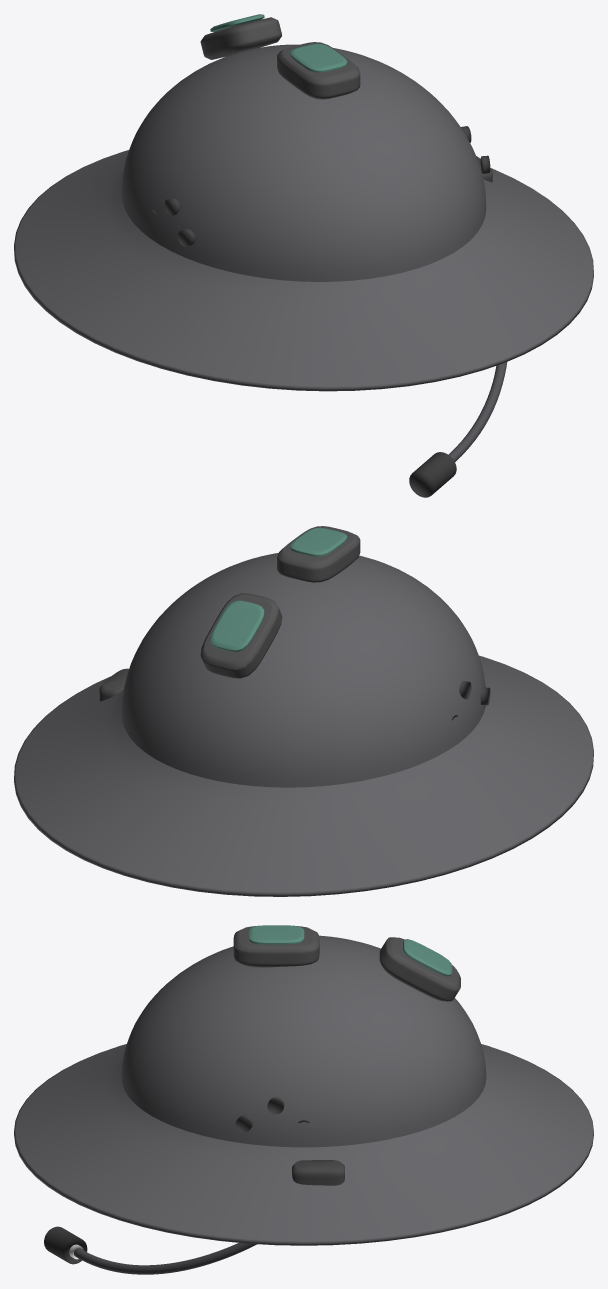
Rendered from tactical_helmet_boom_mic.glb.
3 renders of one model, top to bottom at view 1: azimuth 30°, elevation 25°; view 2: azimuth 150°, elevation 25°; view 3: azimuth 270°, elevation 25°, orthographic. The views are drawn at different scales.
Parts seen in each view (by area): view 1: Helmet_Shell, Top_Sensor_Module, Rear_Sensor_Module, Mic_Foam_Windscreen, Top_Sensor_Lens, Boom_Arm, Side_Rivets_and_Buttons; view 2: Helmet_Shell, Rear_Sensor_Module, Top_Sensor_Module, Rear_Sensor_Lens, Top_Sensor_Lens, Mic_Base_Mount; view 3: Helmet_Shell, Rear_Sensor_Module, Top_Sensor_Module, Boom_Arm, Mic_Base_Mount, Top_Sensor_Lens, Rear_Sensor_Lens, Mic_Foam_Windscreen, Side_Rivets_and_Buttons.
Part boxes in pixels (box(x1,y1,x2,y2)): Helmet_Shell: box(14, 44, 593, 391); Top_Sensor_Module: box(277, 42, 360, 99); Rear_Sensor_Module: box(200, 17, 281, 59); Mic_Foam_Windscreen: box(409, 452, 456, 497); Top_Sensor_Lens: box(290, 43, 347, 72); Boom_Arm: box(448, 362, 507, 461); Side_Rivets_and_Buttons: box(150, 126, 490, 246); Helmet_Shell: box(14, 553, 593, 896); Rear_Sensor_Module: box(200, 593, 282, 678); Top_Sensor_Module: box(277, 526, 360, 582); Rear_Sensor_Lens: box(210, 600, 264, 651); Top_Sensor_Lens: box(290, 527, 347, 556); Mic_Base_Mount: box(99, 668, 128, 701); Helmet_Shell: box(14, 935, 593, 1245); Rear_Sensor_Module: box(379, 937, 460, 1001); Top_Sensor_Module: box(233, 926, 319, 967); Boom_Arm: box(74, 1243, 256, 1274); Mic_Base_Mount: box(292, 1160, 344, 1185); Top_Sensor_Lens: box(248, 925, 304, 944); Rear_Sensor_Lens: box(403, 939, 452, 976); Mic_Foam_Windscreen: box(44, 1226, 87, 1264); Side_Rivets_and_Buttons: box(235, 1097, 309, 1132).
Bounding box in the file's own units: 28.69 × 19.7 × 31.71.
